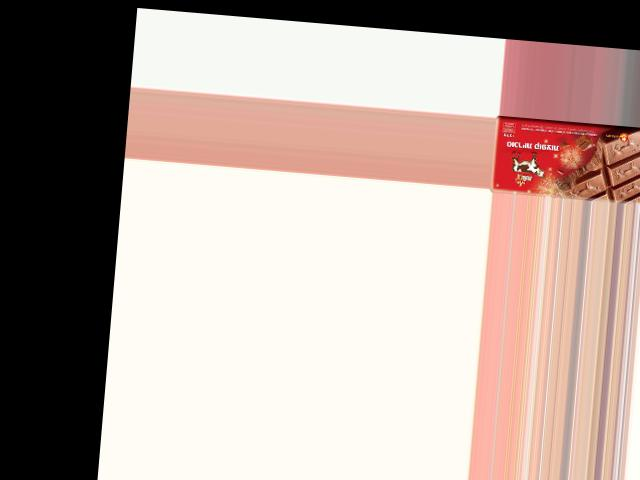chocolate: (489, 115, 640, 204)
